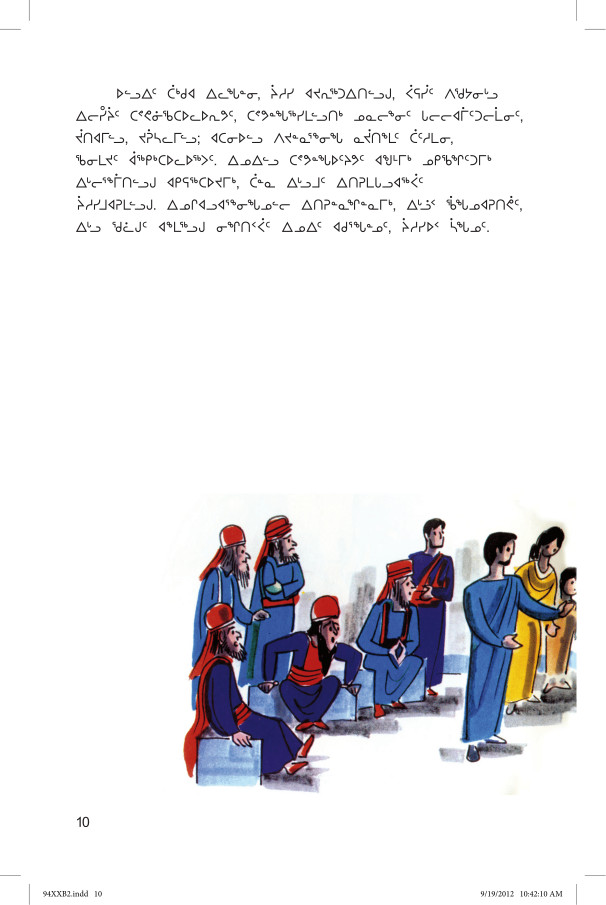inuktitut: (71, 77, 532, 239)
